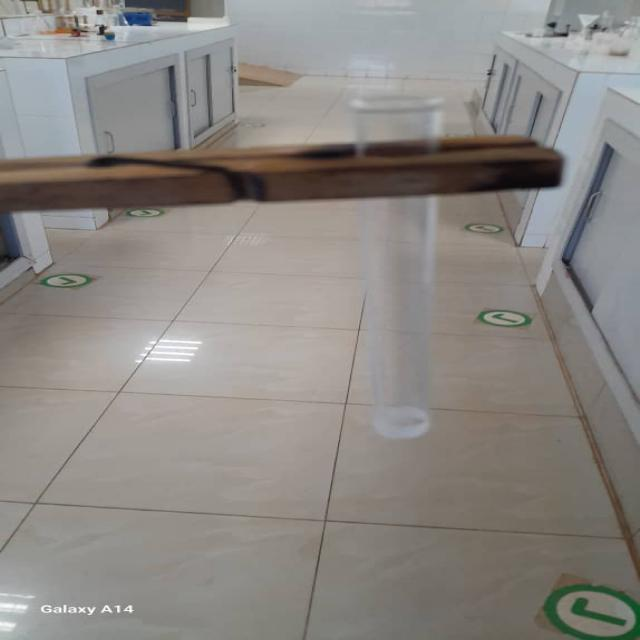Test Tube Holder: (28, 146, 572, 204)
